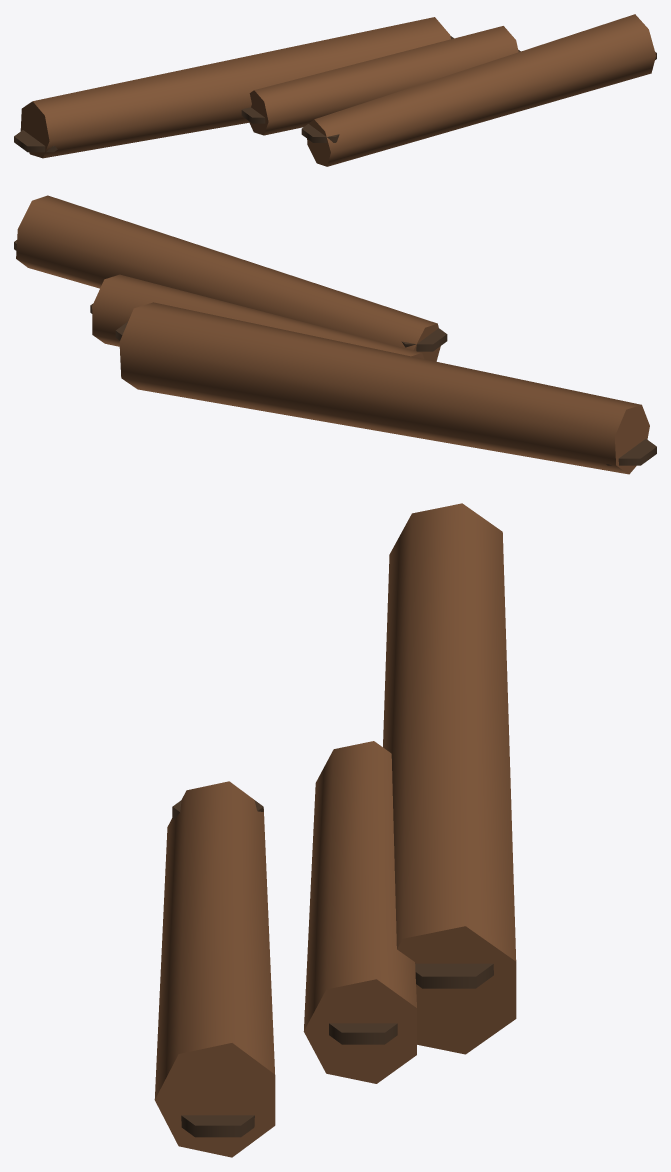
Rendered from forest_log.glb.
The picture shows the model from 3 angles, top to bottom: view 1: azimuth 30°, elevation 25°; view 2: azimuth 150°, elevation 25°; view 3: azimuth 270°, elevation 25°; orthographic projection. The views are drawn at different scales.
Visible parts, largest first — view 1: forest_log_LOD0; view 2: forest_log_LOD0; view 3: forest_log_LOD0.
Part boxes in pixels (left/top/right/bottom): forest_log_LOD0: left=14, top=14, right=656, bottom=166; forest_log_LOD0: left=14, top=195, right=656, bottom=474; forest_log_LOD0: left=154, top=503, right=516, bottom=1157.
Size of what is drawn, in the model's own units: 3.55 by 0.4765 by 0.9702.
